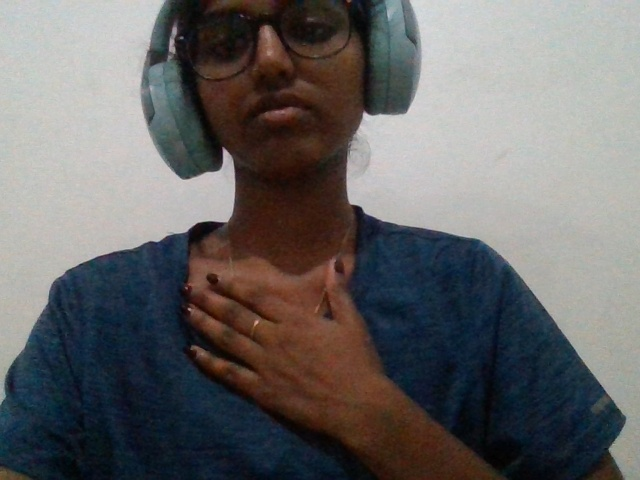Please: (136, 235, 410, 473)
